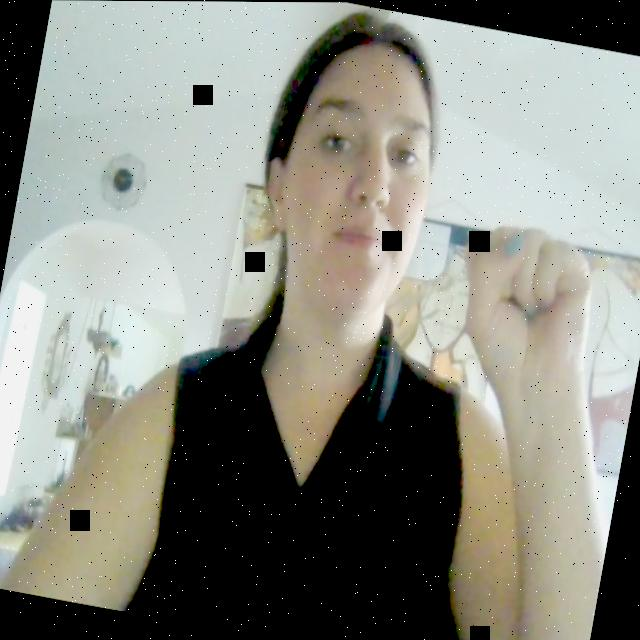Rock: (416, 187, 636, 423)
